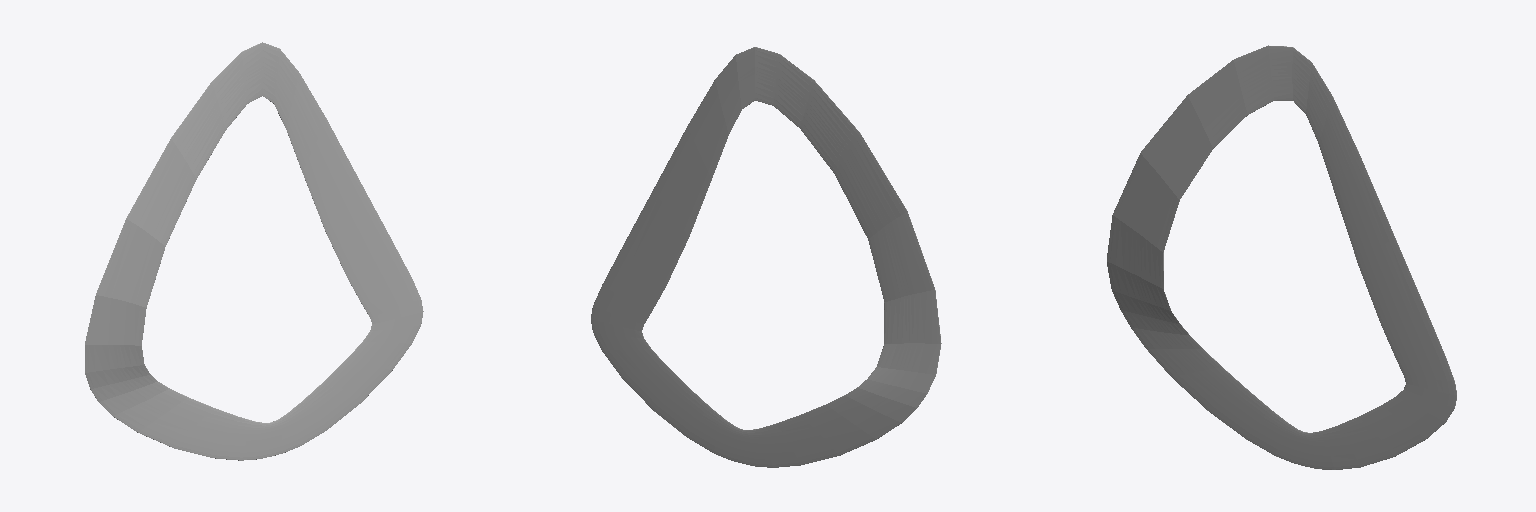
Rendered from map.obj.
3 renders of one model, left to right at view 1: azimuth 30°, elevation 25°; view 2: azimuth 150°, elevation 25°; view 3: azimuth 330°, elevation 25°, orthographic.
Parts seen in each view (by area): view 1: SurfTorus; view 2: SurfTorus; view 3: SurfTorus.
Boxes of the visible parts, x1=… form: SurfTorus: x1=85, y1=42, x2=423, y2=460; SurfTorus: x1=591, y1=47, x2=941, y2=467; SurfTorus: x1=1107, y1=45, x2=1456, y2=469.
Bounding box in the file's own units: 168 × 194 × 8.76.